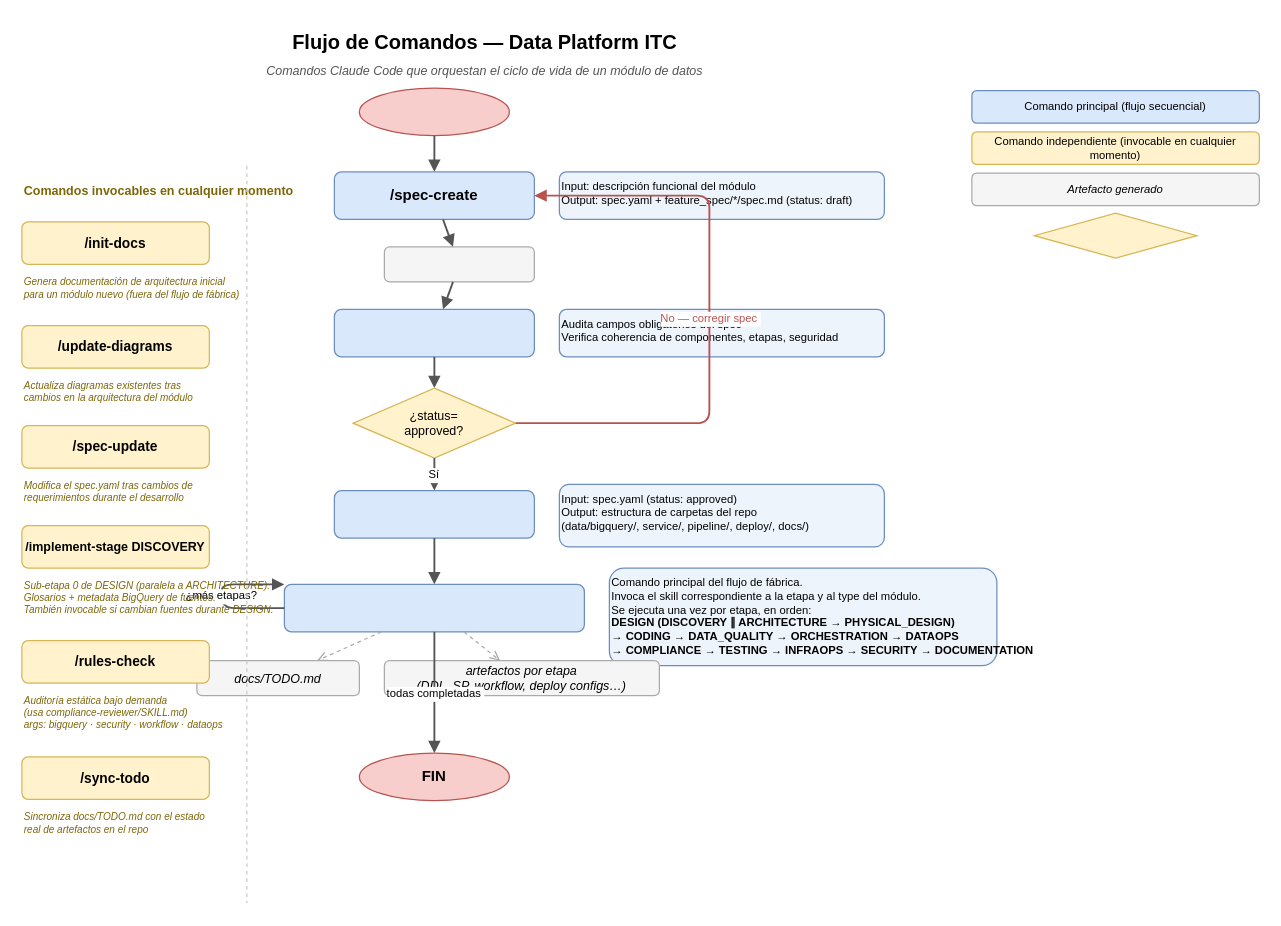
The diagram is 1281 pixels wide and 926 high, and some of its shapes have lost their labels. Here are the shapes that lost their labels. From the top down, the centre of each, then its label:
point 433,111: INICIO
point 1115,235: Decisión
point 458,264: spec.yaml
point 433,332: /spec-validate
point 433,513: /init-project
point 433,607: /implement-stage {ETAPA}
